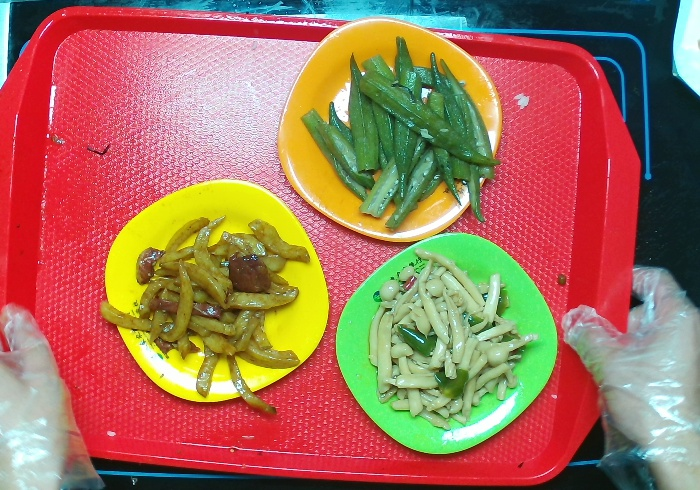YKMZ-Huang_Se_Fang_Die: (101, 177, 330, 404)
YKMZ-Ju_Se_Fang_Die: (276, 16, 501, 246)
YKMZ-Lv_Se_Fang_Die: (333, 231, 560, 457)
